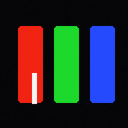4 line_v: (32, 73, 36, 103)
